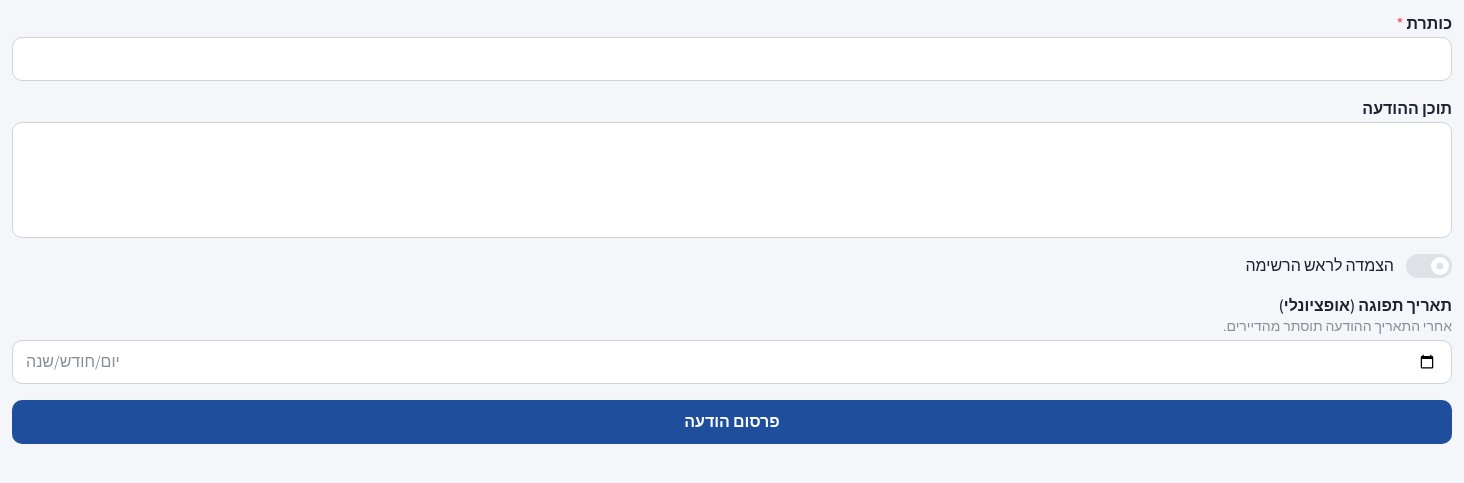
Scenario: AnnouncementForm › requires a title
Click the button "פרסום הודעה": (732, 422) top-left (12, 400), bottom-right (1452, 444)
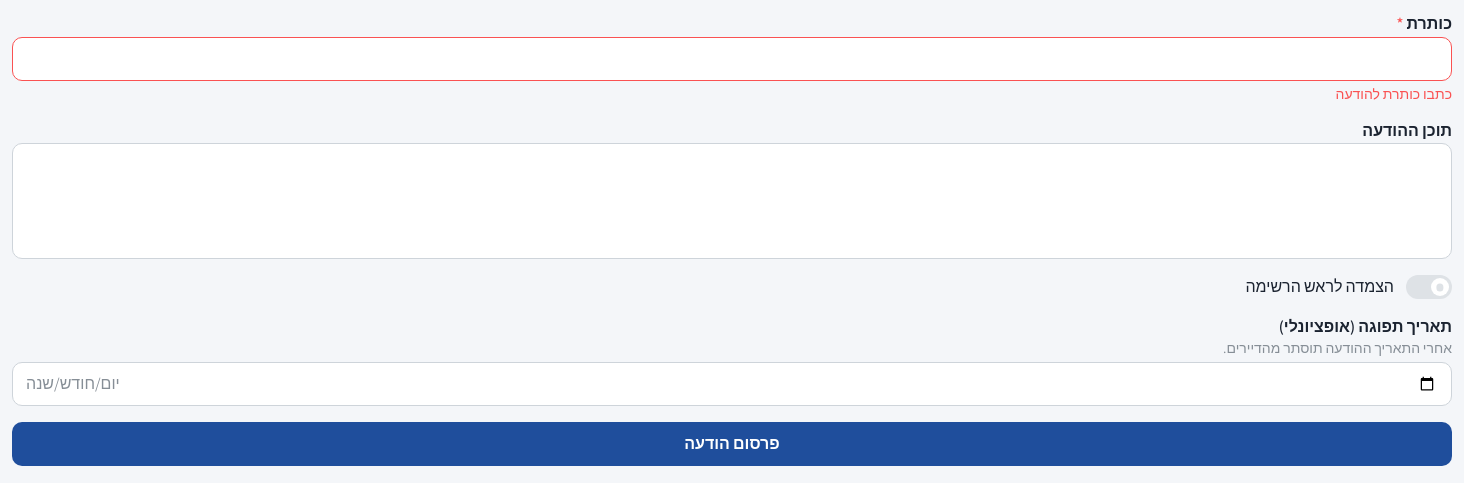
Check: the text "כתבו כותרת להודעה" is shown, box top-left (1336, 85), bottom-right (1452, 103)
